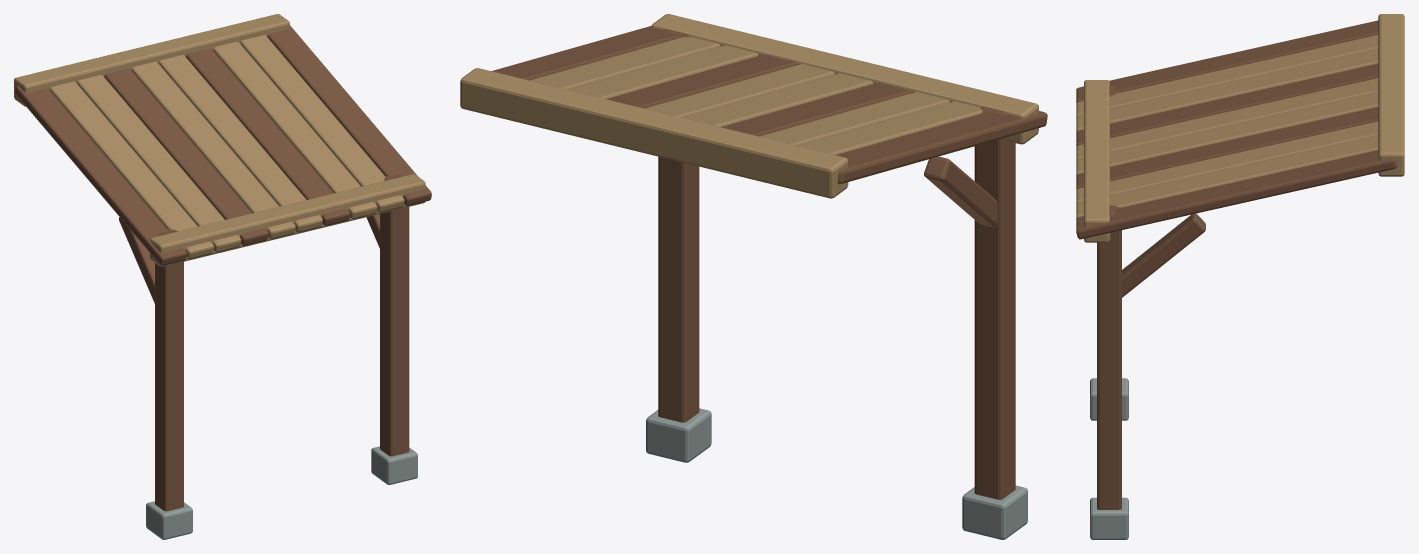
File: attachment_work_canopy_2m__attachments.glb
The picture shows the model from 3 angles, left to right: view 1: azimuth 30°, elevation 25°; view 2: azimuth 150°, elevation 25°; view 3: azimuth 270°, elevation 25°; orthographic projection. The views are drawn at different scales.
Parts seen in each view (by area): view 1: attachment_work_canopy_2m__attachments__mesh_00; view 2: attachment_work_canopy_2m__attachments__mesh_00; view 3: attachment_work_canopy_2m__attachments__mesh_00.
Boxes of the visible parts, <box> form: attachment_work_canopy_2m__attachments__mesh_00: <box>14,14,431,539</box>; attachment_work_canopy_2m__attachments__mesh_00: <box>460,14,1047,539</box>; attachment_work_canopy_2m__attachments__mesh_00: <box>1076,14,1404,539</box>.
Bounding box in the file's own units: 2.19 × 2.78 × 2.12.
